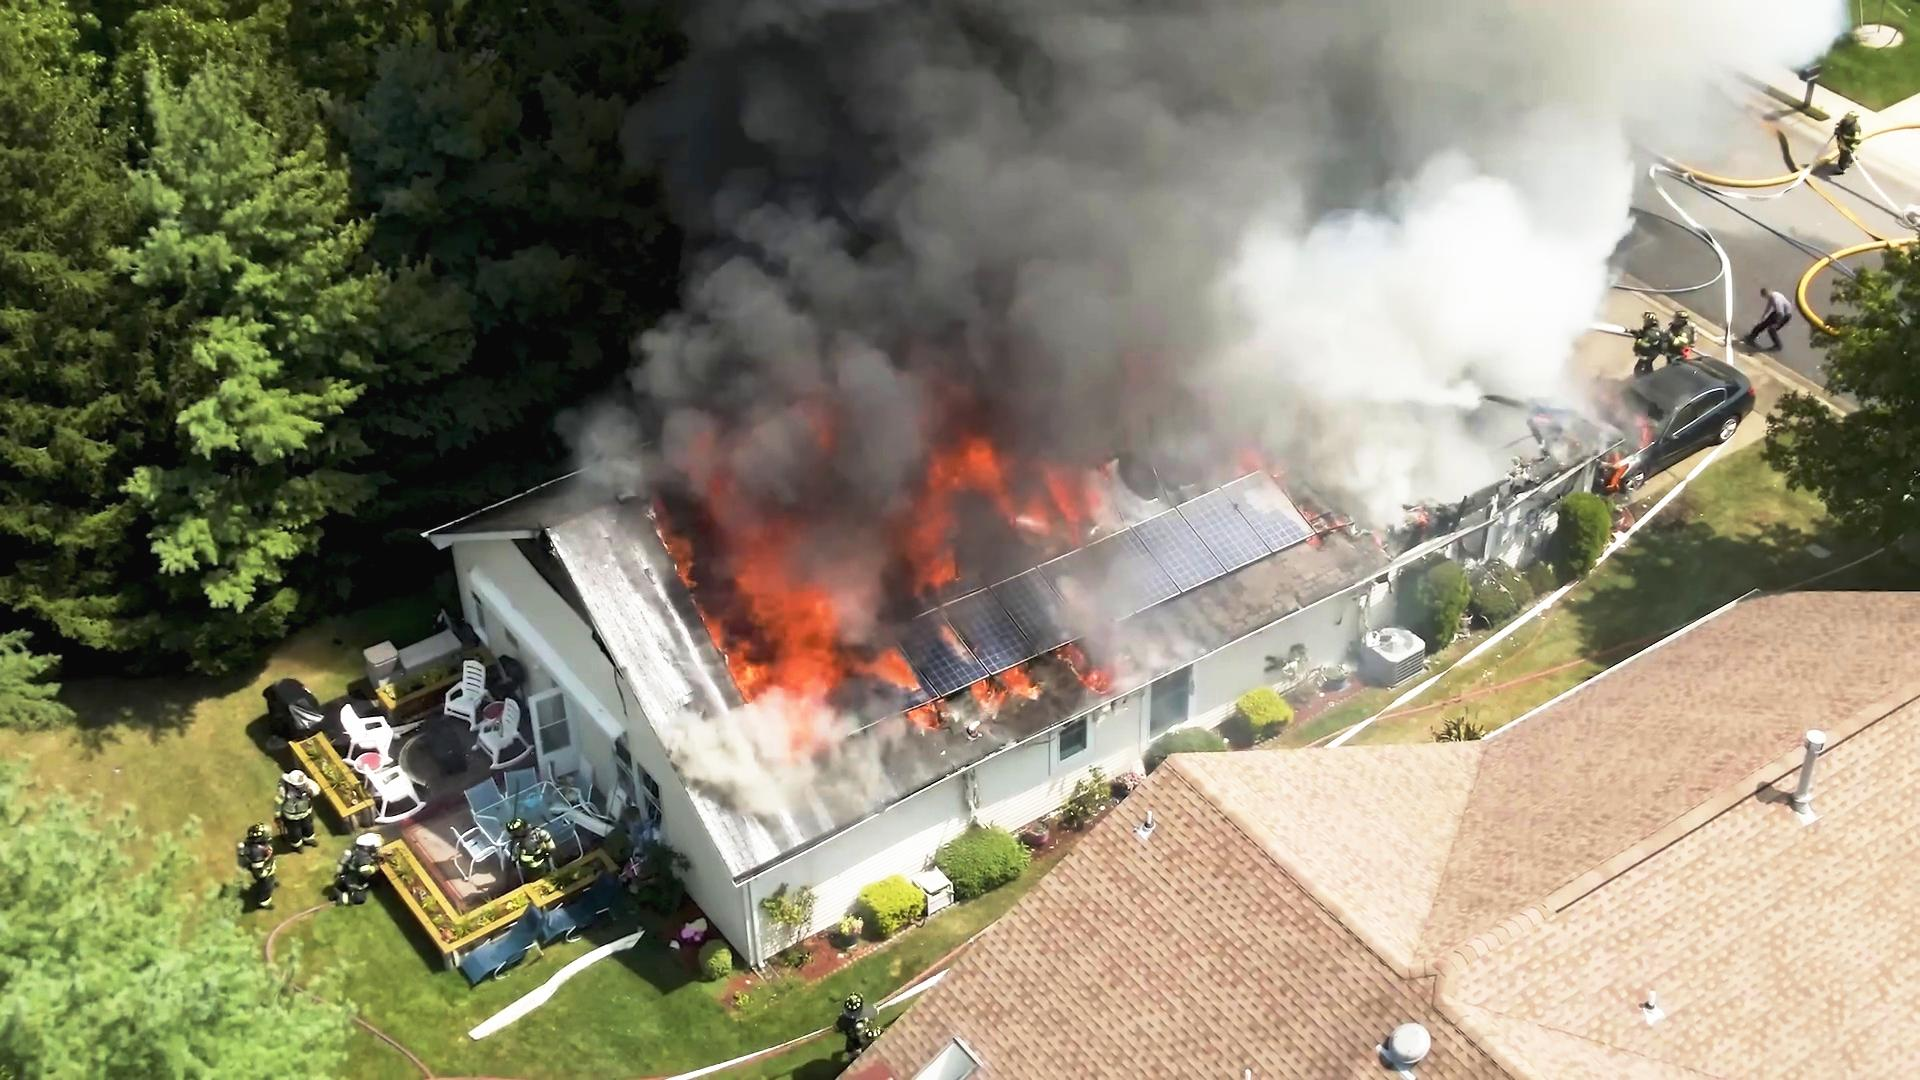fire: (658, 460, 891, 707), (911, 421, 1055, 603)
smoke: (915, 0, 1545, 376)
